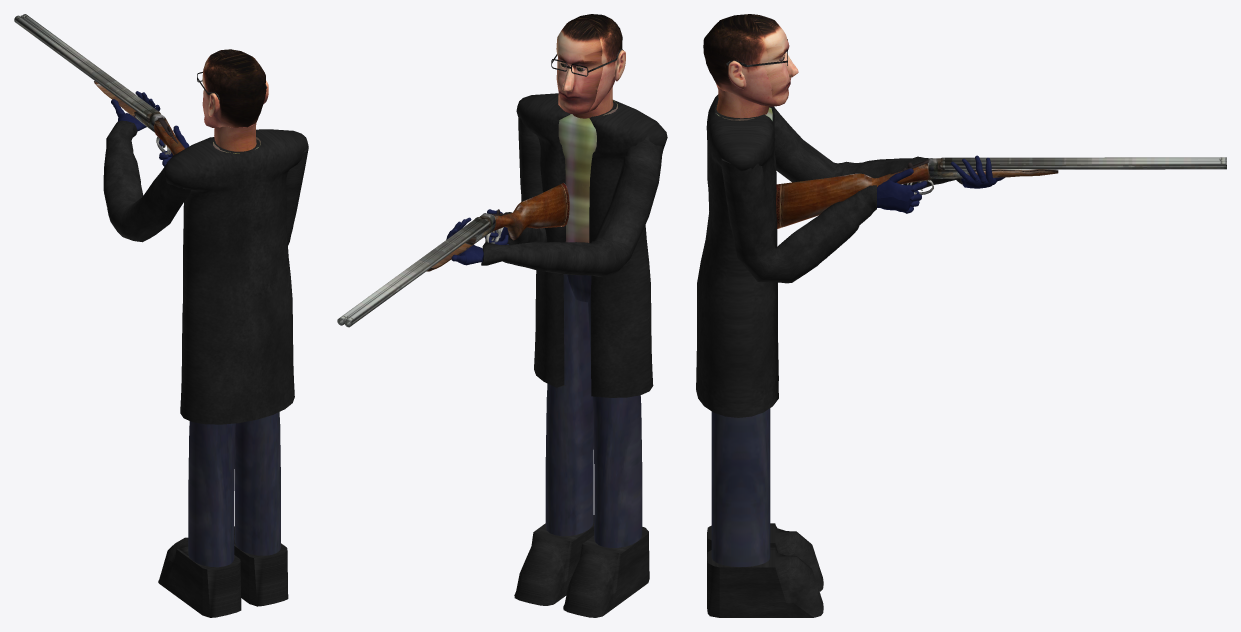
The model's file is Joe.fbx.
The picture shows the model from 3 angles, left to right: view 1: azimuth 30°, elevation 25°; view 2: azimuth 150°, elevation 25°; view 3: azimuth 270°, elevation 25°; orthographic projection. The views are drawn at different scales.
Visible parts, largest first — view 1: joe_trenchcoat, joe_legs, larm, joe_face, joe_lshoetest, dbshotgun, joe_rshoetest, rarm, joe_neck; view 2: joe_trenchcoat, joe_legs, larm, dbshotgun, joe_face, joe_lshoetest, joe_rshoetest, joe_shirt, rarm; view 3: joe_trenchcoat, joe_legs, rarm, dbshotgun, joe_rshoetest, joe_face, larm, joe_lshoetest, joe_neck, rhand.
Boxes of the visible parts, left/top/right/bottom form: joe_trenchcoat: left=163, top=129, right=308, bottom=424; joe_legs: left=188, top=412, right=280, bottom=567; larm: left=103, top=120, right=190, bottom=242; joe_face: left=202, top=49, right=266, bottom=127; joe_lshoetest: left=158, top=537, right=241, bottom=617; dbshotgun: left=14, top=14, right=184, bottom=155; joe_rshoetest: left=234, top=526, right=288, bottom=606; rarm: left=286, top=147, right=308, bottom=245; joe_neck: left=214, top=123, right=256, bottom=151; joe_trenchcoat: left=516, top=93, right=667, bottom=397; joe_legs: left=545, top=242, right=642, bottom=547; larm: left=481, top=136, right=663, bottom=276; dbshotgun: left=337, top=183, right=569, bottom=327; joe_face: left=556, top=14, right=622, bottom=114; joe_lshoetest: left=563, top=527, right=649, bottom=617; joe_rshoetest: left=514, top=515, right=594, bottom=605; joe_shirt: left=558, top=100, right=617, bottom=242; rarm: left=504, top=118, right=546, bottom=244; joe_trenchcoat: left=696, top=94, right=778, bottom=417; joe_legs: left=711, top=408, right=770, bottom=566; rarm: left=721, top=158, right=876, bottom=283; dbshotgun: left=776, top=157, right=1226, bottom=228; joe_rshoetest: left=707, top=547, right=823, bottom=617; joe_face: left=703, top=14, right=791, bottom=106; larm: left=774, top=108, right=962, bottom=188; joe_lshoetest: left=707, top=523, right=823, bottom=591; joe_neck: left=716, top=84, right=769, bottom=118; rhand: left=877, top=179, right=913, bottom=212.
Bounding box in the file's own units: 17.23 × 60.91 × 50.64.
7 materials, 7 textured.
